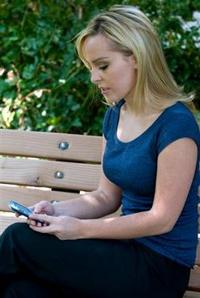person: (2, 8, 198, 298)
